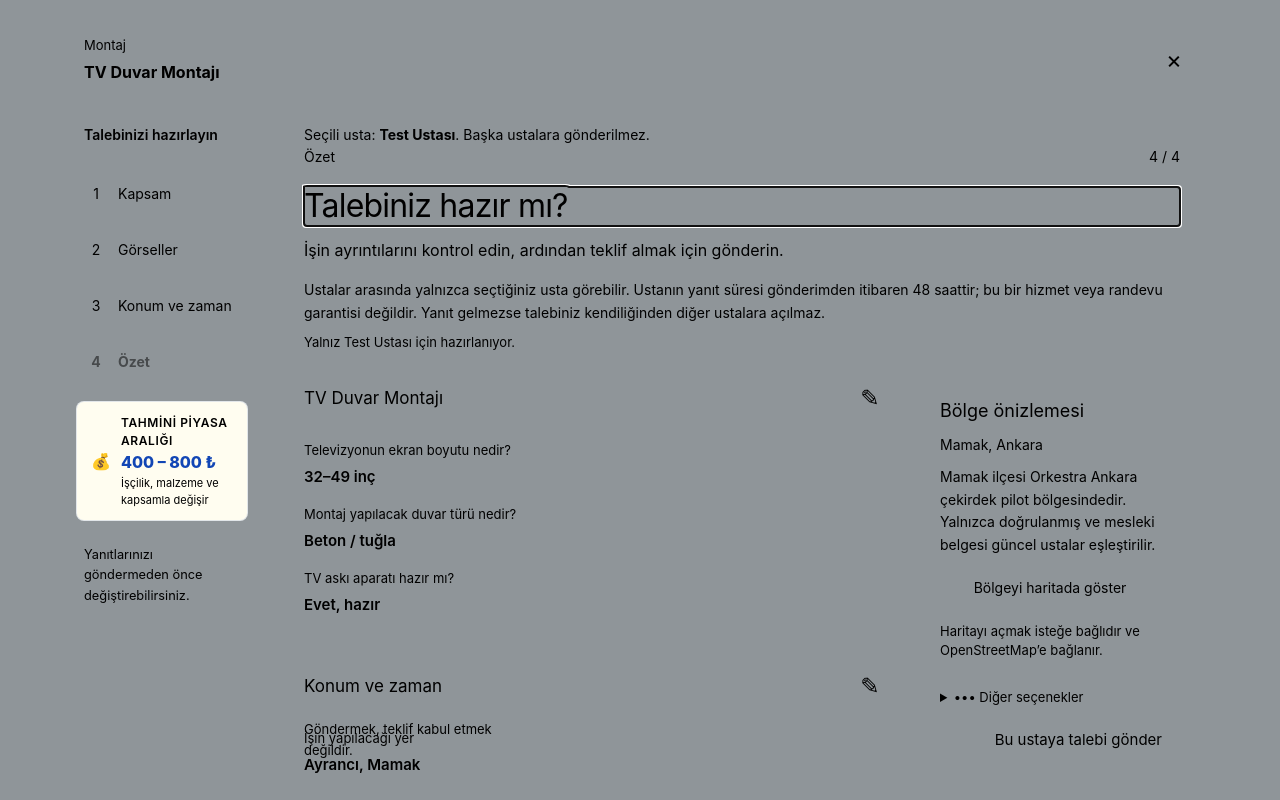
Test: cannot submit a restored location outside the target working area
Click the button "Bu ustaya talebi gönder".
click(1078, 740)  # box [977,716,1180,764]
(page scrolled)
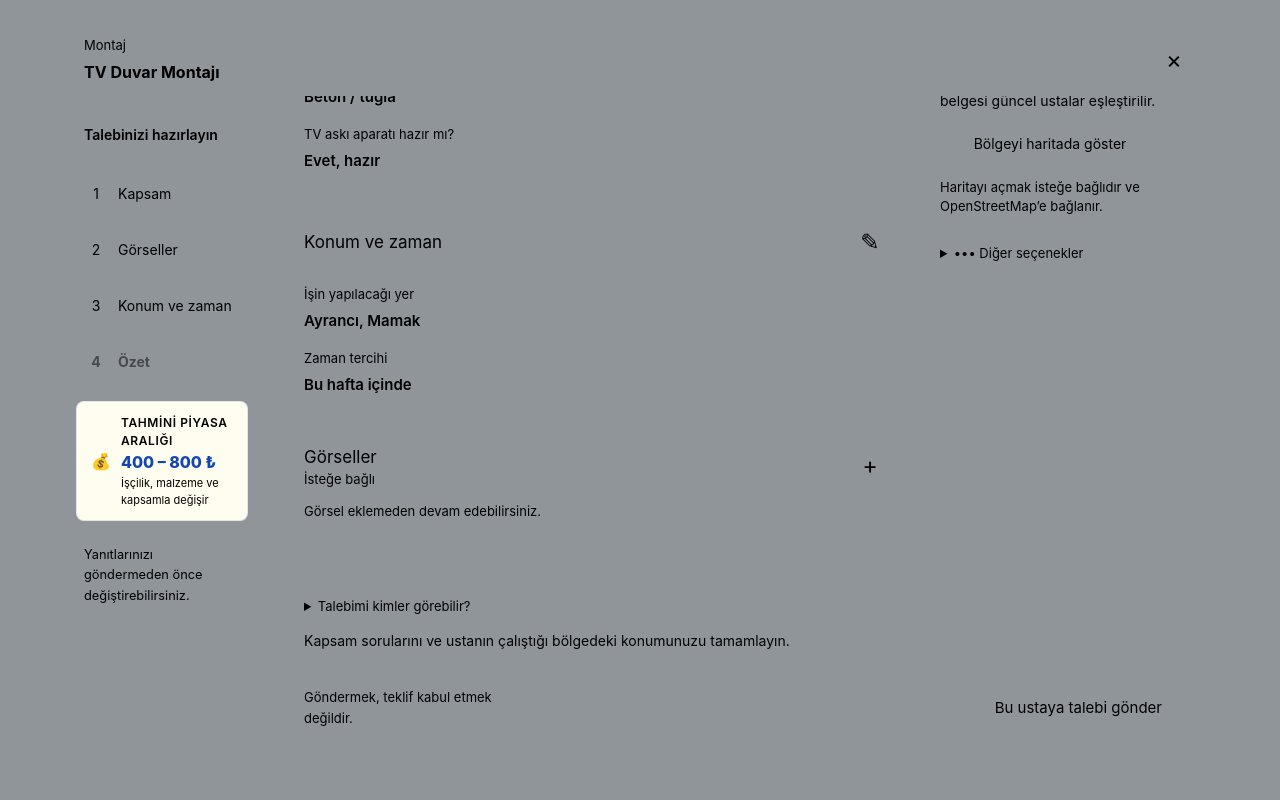
Check: the message shows "ustanın çalıştığı bölgedeki", box [304,632,790,649]
